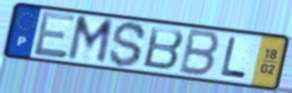B: (176, 27, 223, 79), (140, 24, 186, 72)
E: (32, 10, 78, 60)
L: (218, 35, 248, 81)
M: (64, 14, 116, 67)
S: (107, 20, 149, 69)
